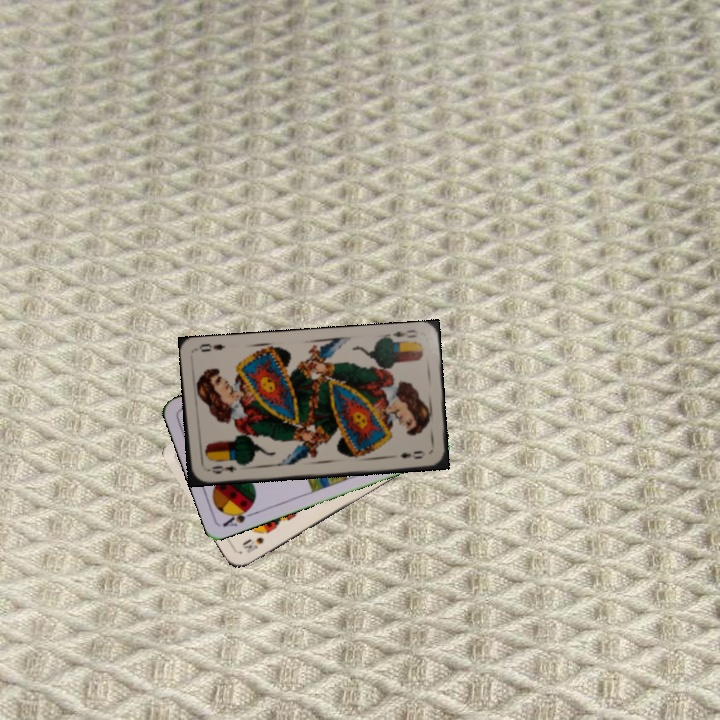EO: (382, 326, 420, 346), (203, 462, 239, 476)
S10: (240, 533, 267, 556)
SA: (219, 502, 258, 529)
